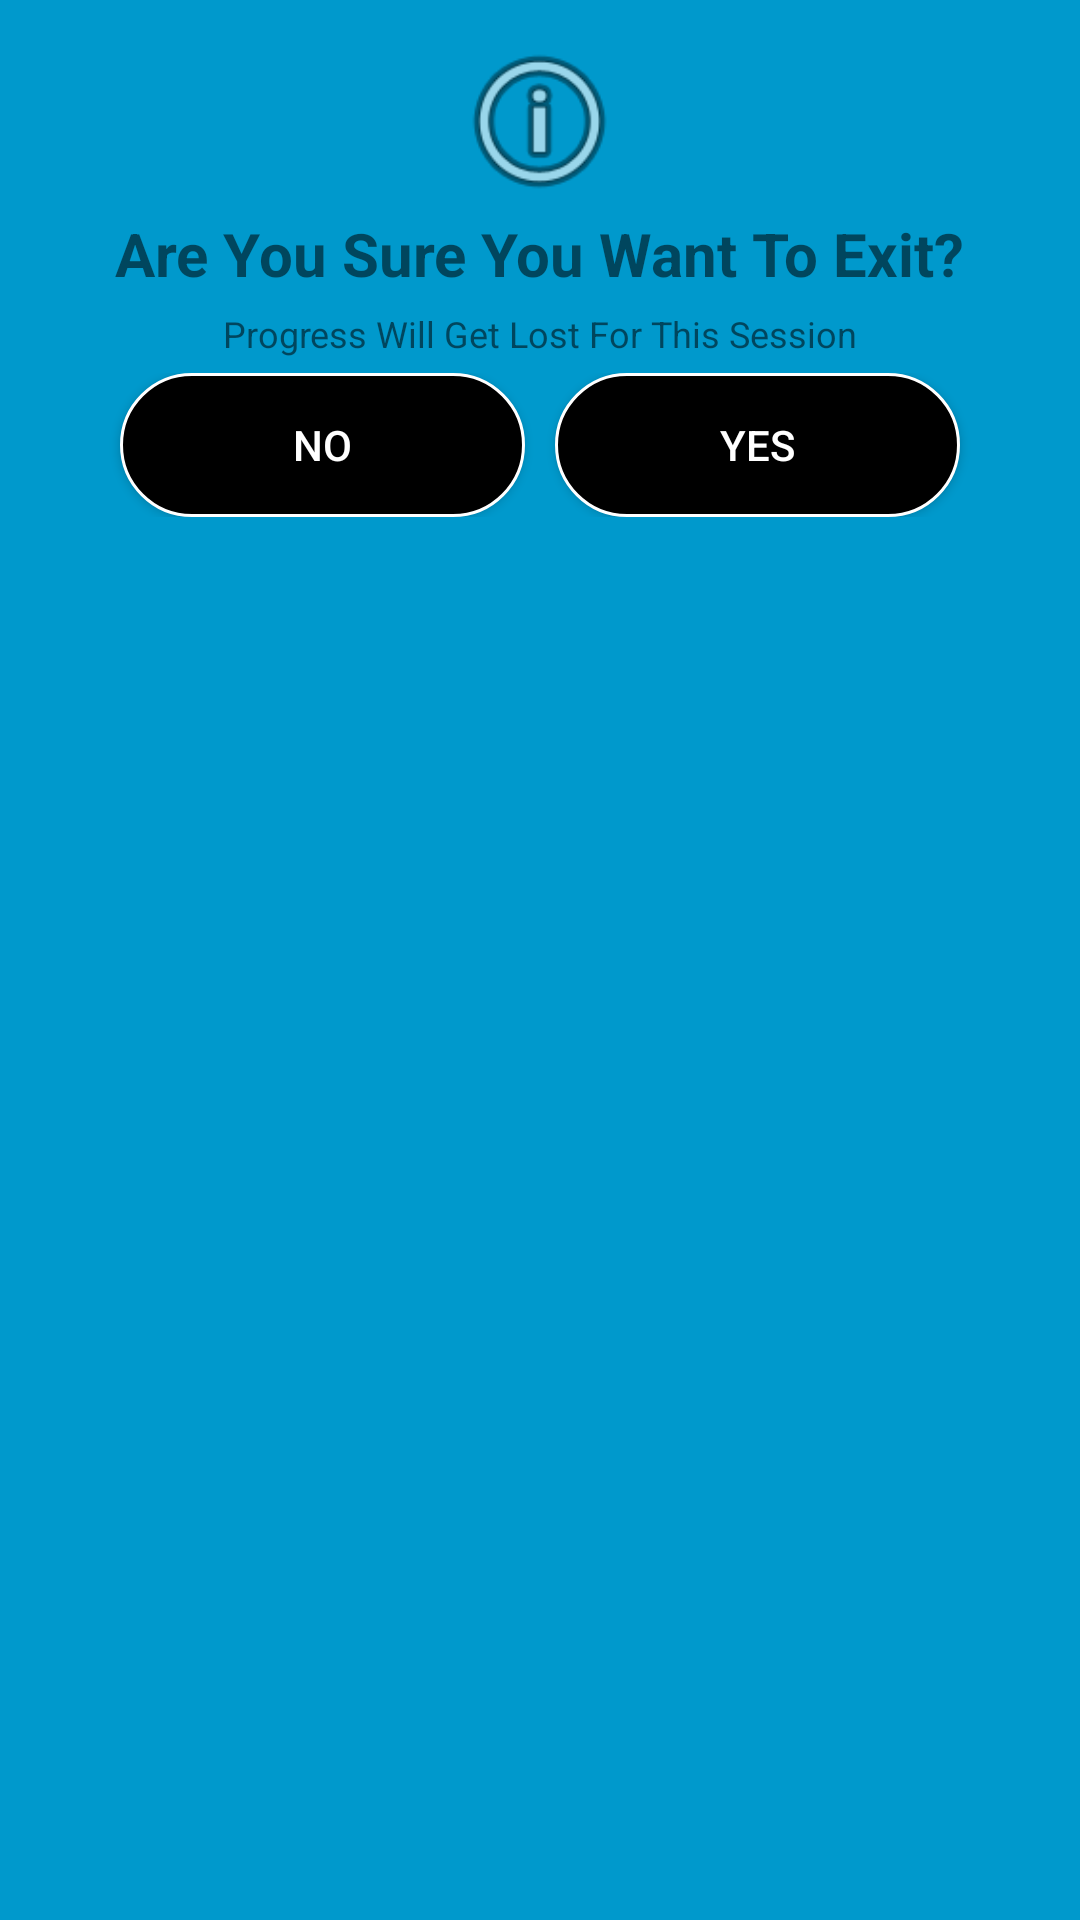

Icon bounding boxes for this 1080x1920 phone screenshot, format (x1, y1, x2, y2):
info details: (474, 56, 605, 187)
